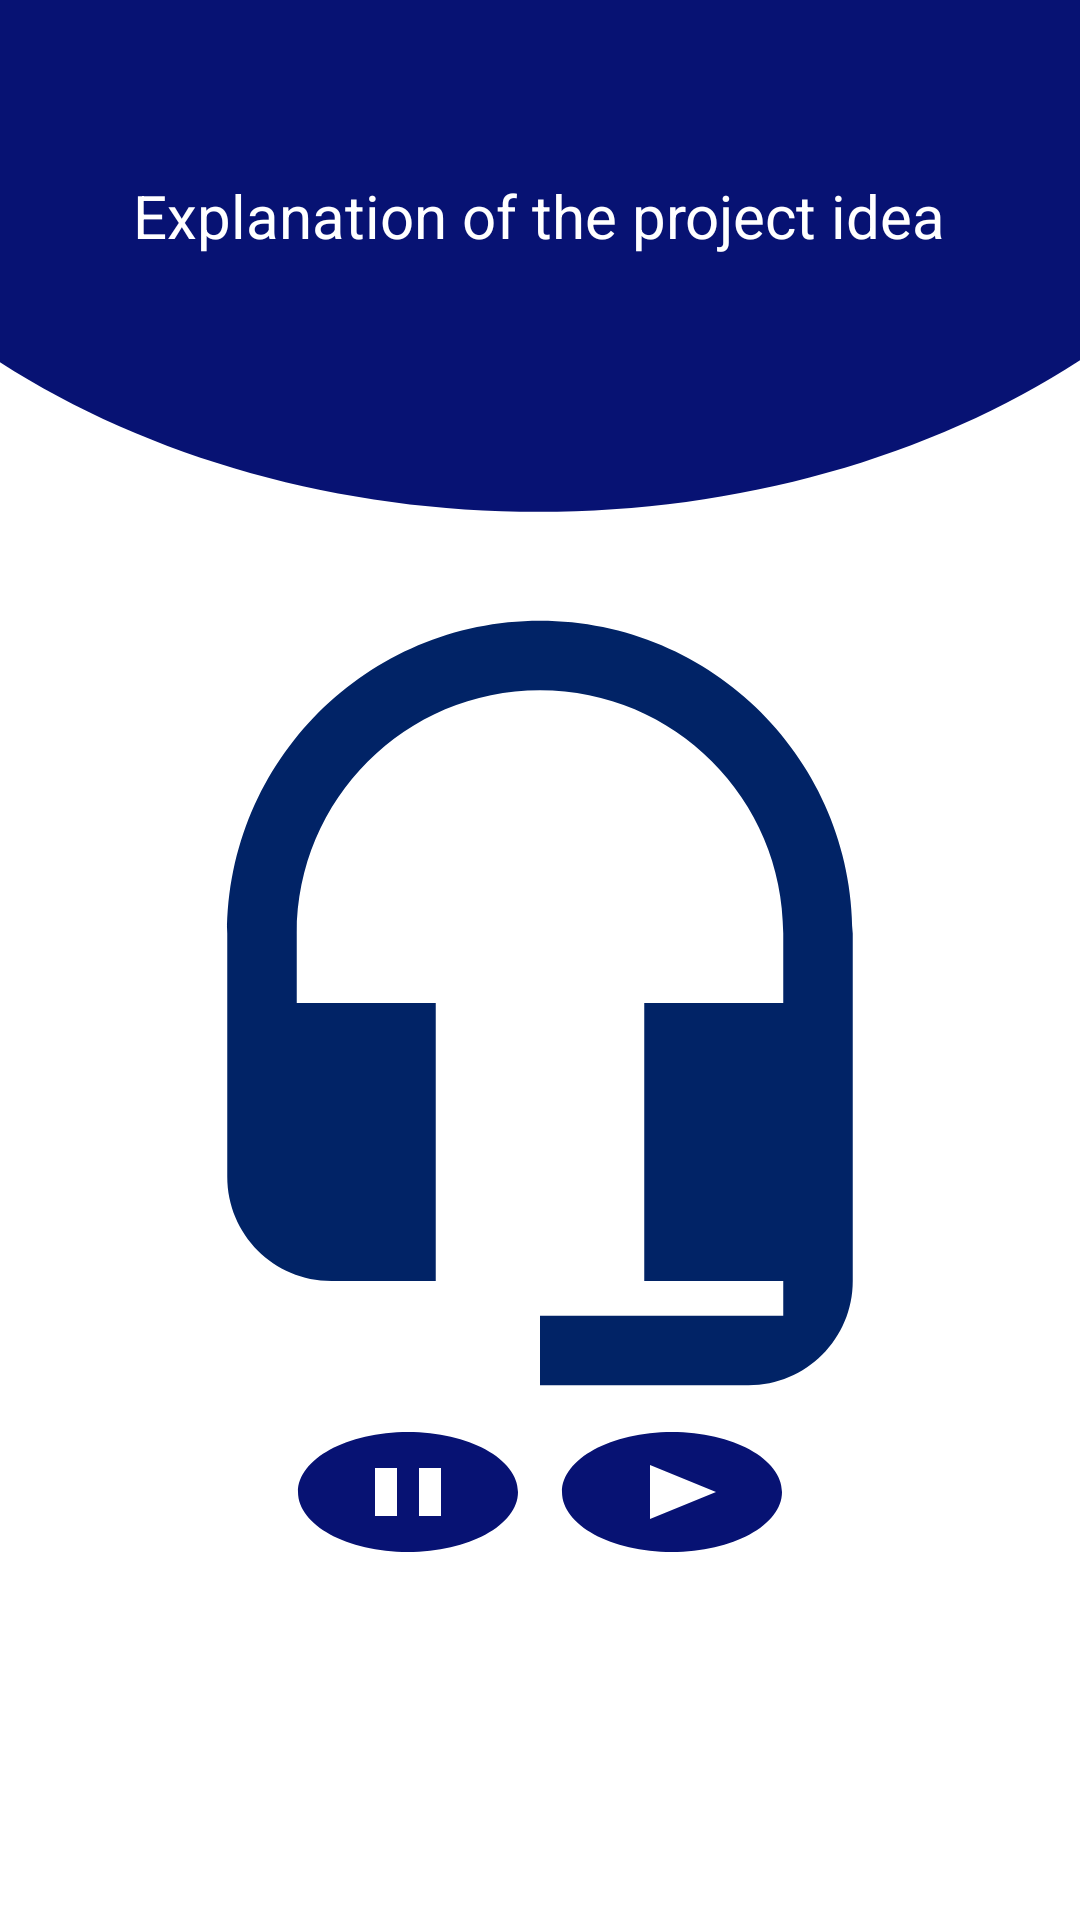

Where icons sit on this 1080×1920 app screen, as region(x1, y1, x2, y2):
pause: region(298, 1432, 518, 1552)
play: region(562, 1432, 782, 1552)
